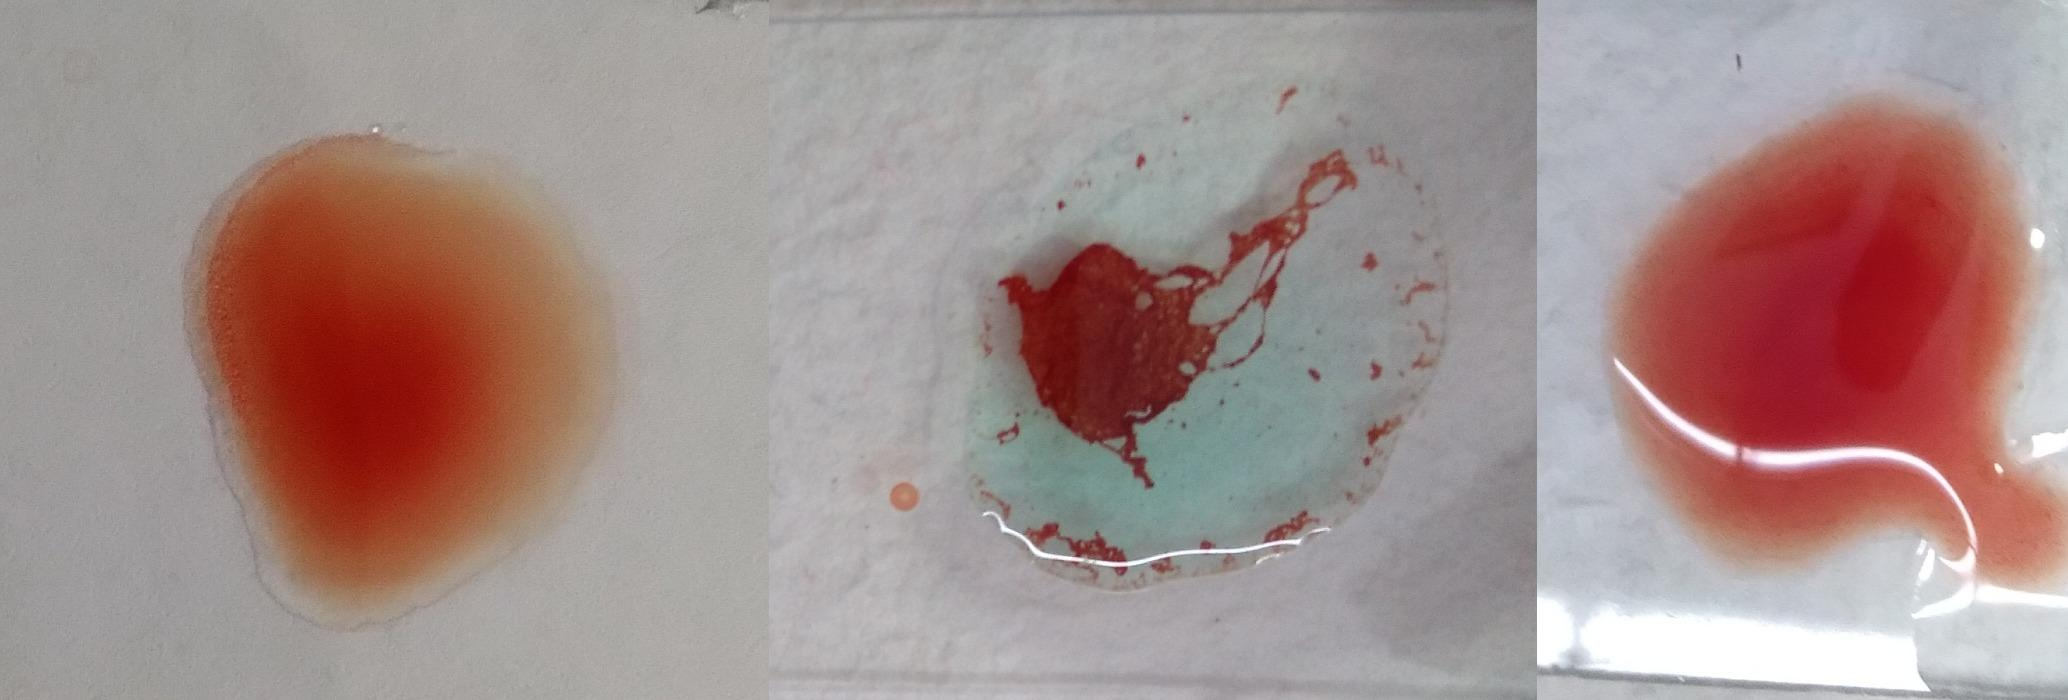A: (951, 49, 1438, 600)
